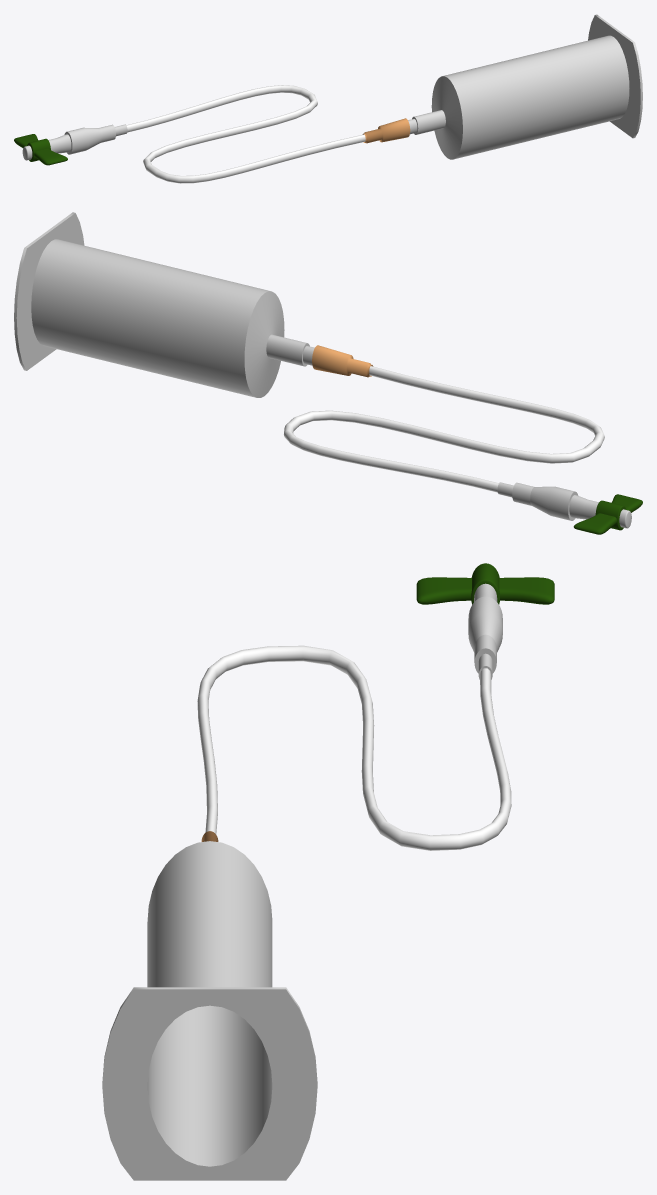
The model's file is spuit1.glb.
3 views of the same model, one above another, from view 1: azimuth 30°, elevation 25°; view 2: azimuth 150°, elevation 25°; view 3: azimuth 270°, elevation 25° (orthographic). The views are drawn at different scales.
Visible parts, largest first — view 1: Circle.005, BezierCurve; view 2: Circle.005, BezierCurve; view 3: Circle.005, BezierCurve.
Part boxes in pixels (x1,y1,x2,y2): Circle.005: [14, 14, 642, 165]; BezierCurve: [126, 85, 365, 183]; Circle.005: [14, 212, 642, 534]; BezierCurve: [284, 366, 604, 492]; Circle.005: [102, 563, 554, 1180]; BezierCurve: [197, 645, 511, 850].
Size of the model in its own units: 14.31 by 2.5 by 5.37.
